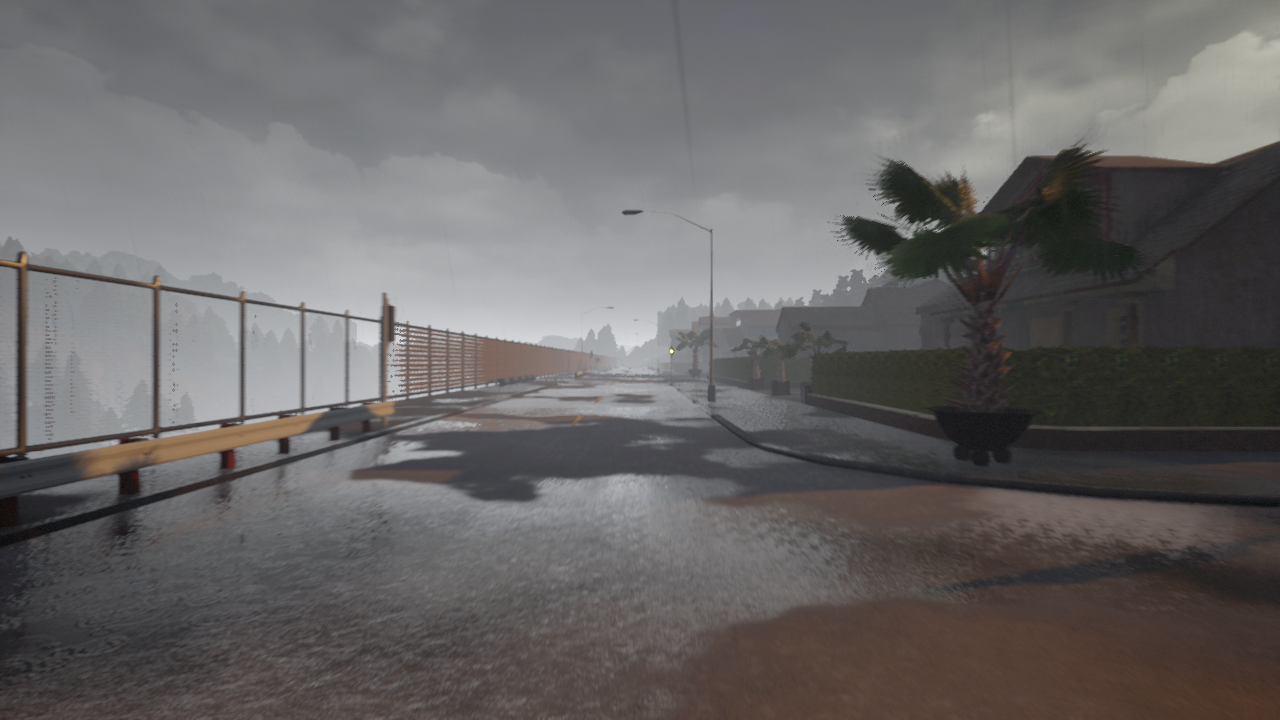yellow: (669, 346, 674, 357)
